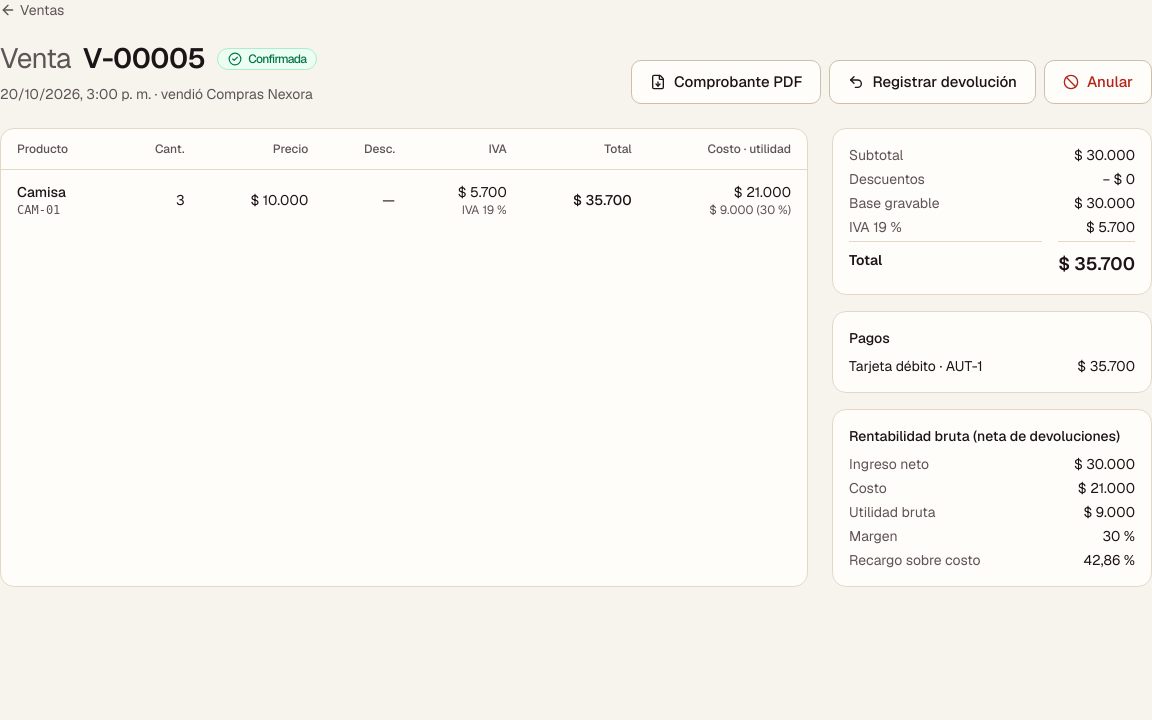
Test: Historial y detalle de ventas › el administrador comercial ve la rentabilidad y registra una devolución parcial
Check: the element labelled "Rentabilidad bruta" shows "42,86 %", box left=1083, top=551, right=1135, bottom=569
Click the button "Registrar devolución" at (933, 82), box left=830, top=60, right=1036, bottom=104
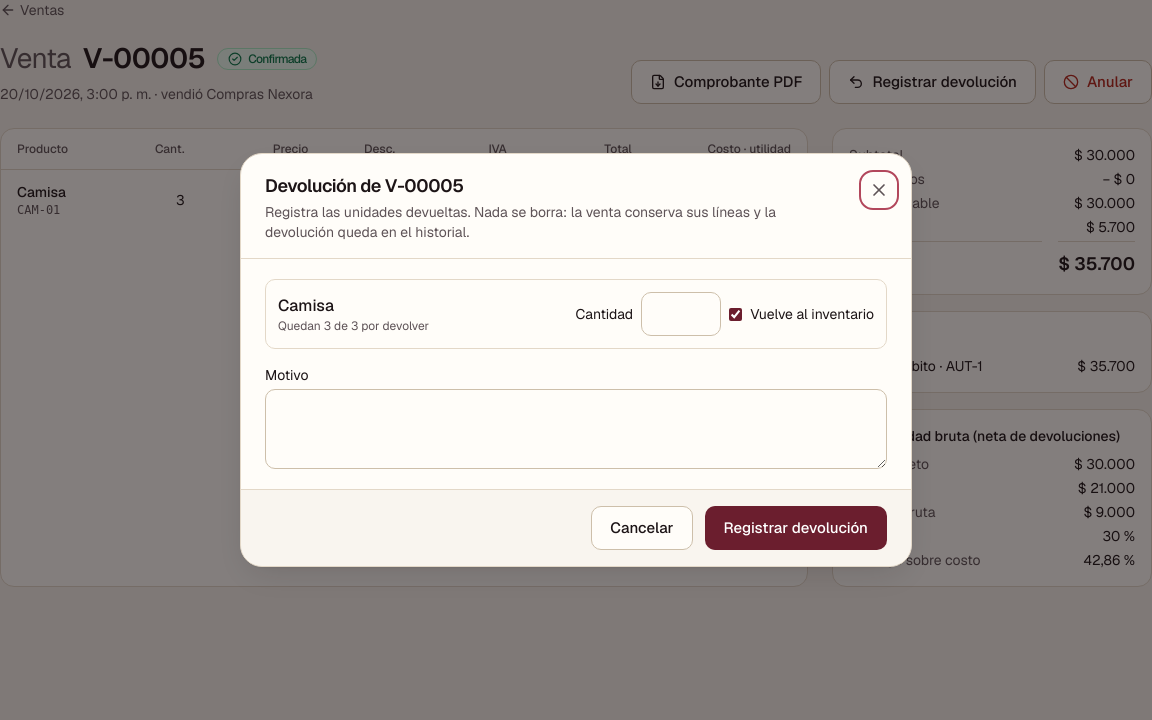
Type "1" into the field named "Unidades a devolver de Camisa" at (681, 314), box left=641, top=292, right=721, bottom=336
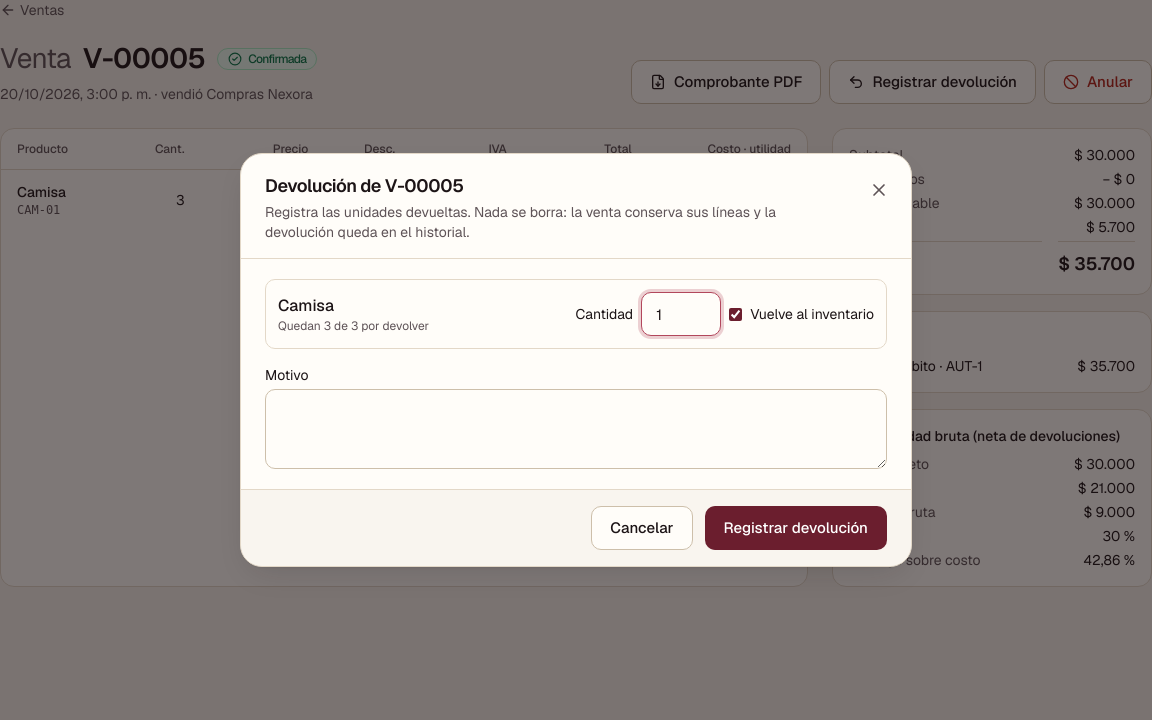
Click the checkbox at (736, 314), box left=729, top=308, right=742, bottom=321
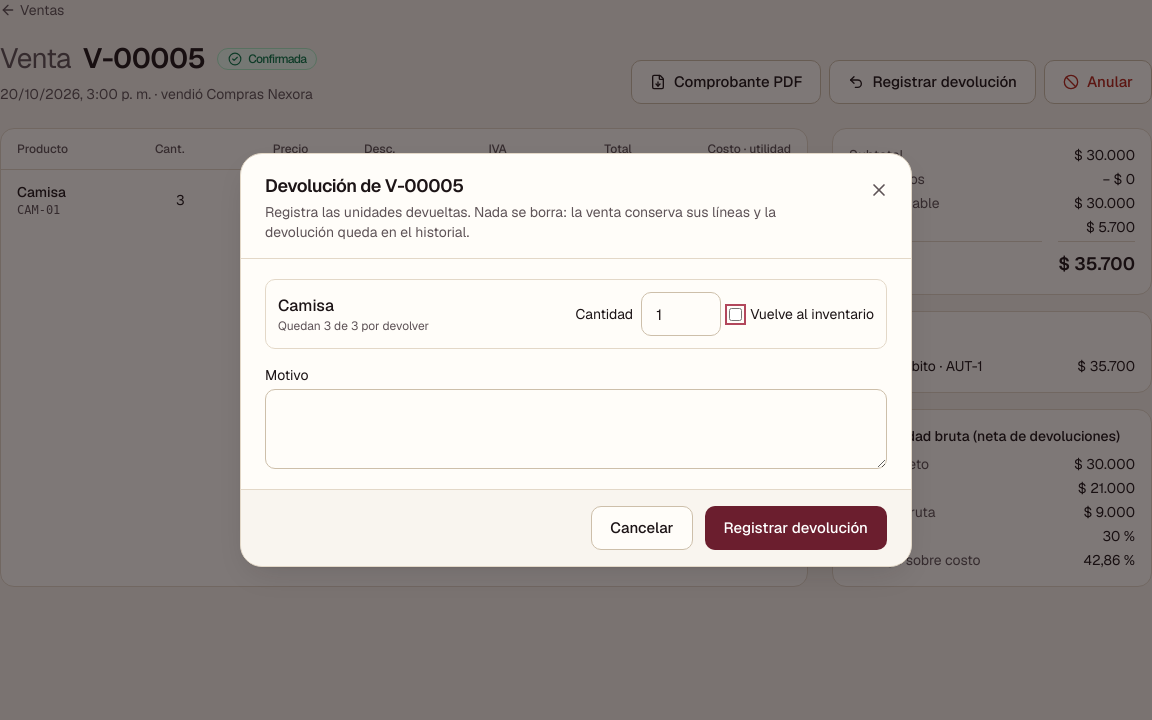
Type "Talla equivocada" into the text box labelled "Motivo" at (576, 429), box left=265, top=389, right=887, bottom=469
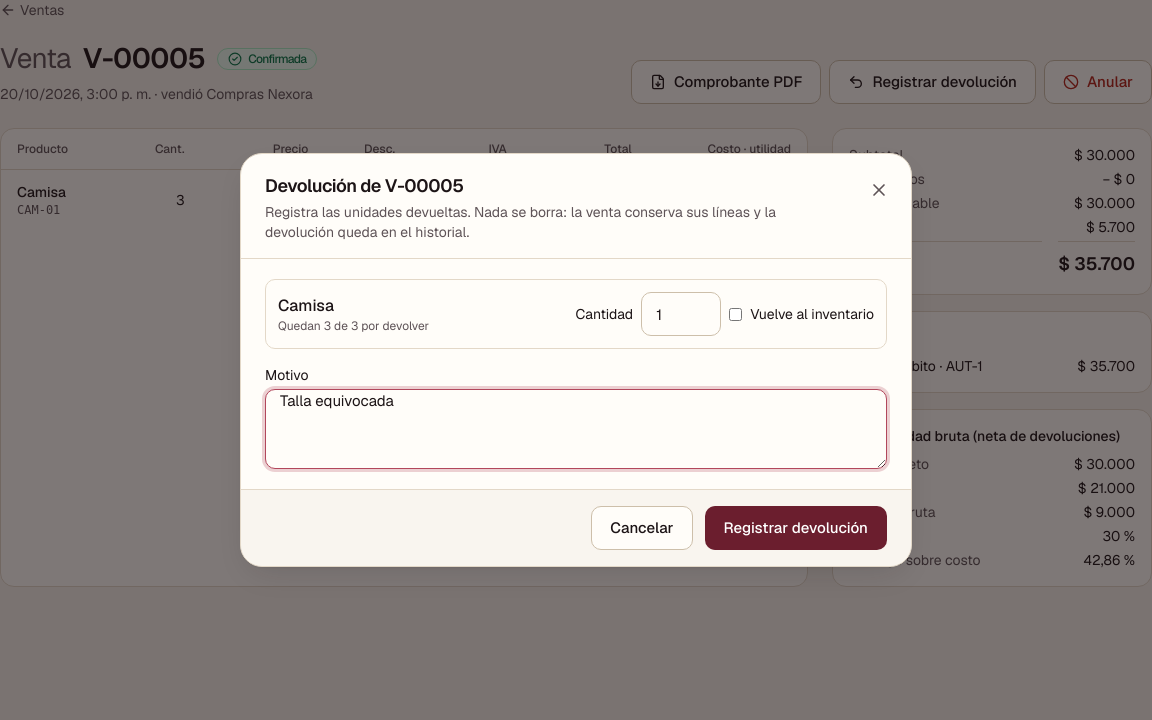
Click the button "Registrar devolución" at (796, 528), box left=704, top=506, right=887, bottom=550
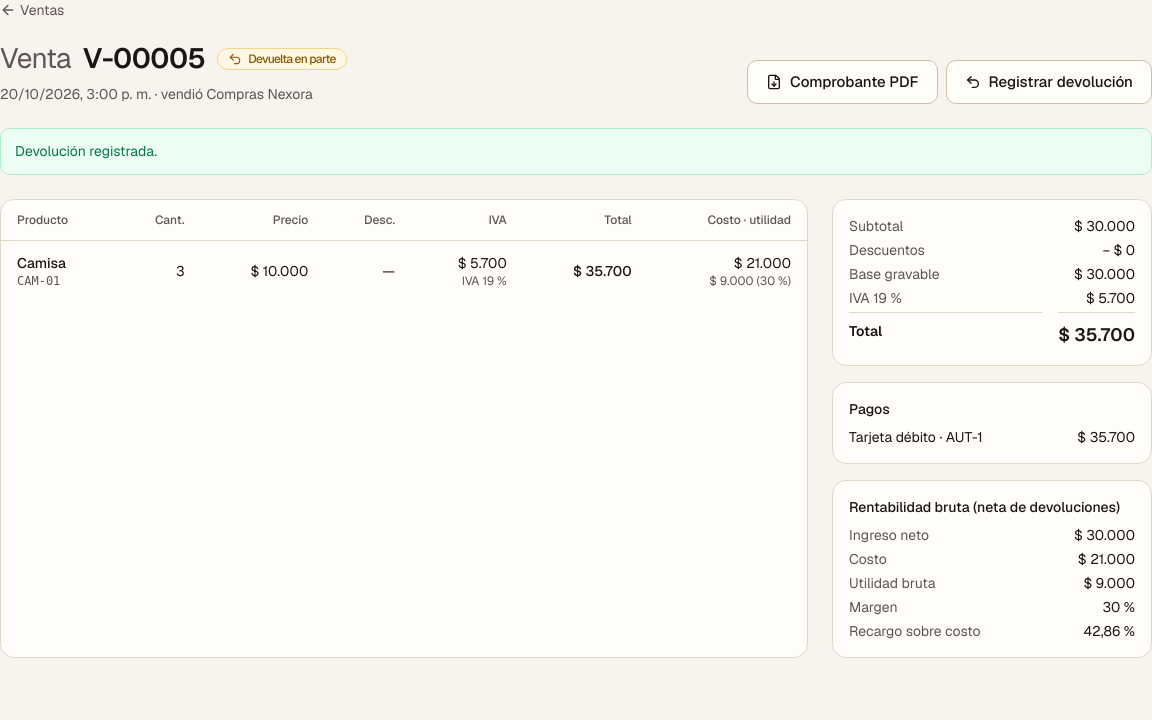
Check: the text "Devolución registrada." is shown, box left=0, top=128, right=1151, bottom=175
